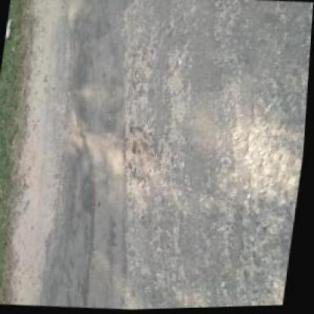Hueco: (117, 122, 165, 184)
